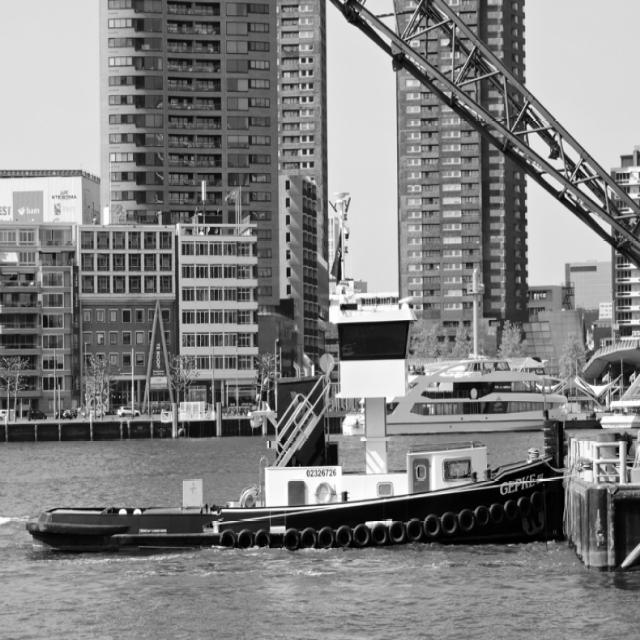tugboat: (23, 359, 570, 572)
